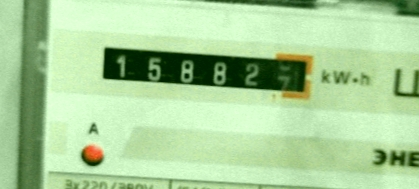1: (113, 51, 129, 77)
2: (243, 59, 259, 85)
5: (145, 53, 163, 80)
7: (275, 70, 291, 90)
8: (177, 56, 195, 83), (211, 58, 227, 84)
screen: (85, 28, 323, 109)
